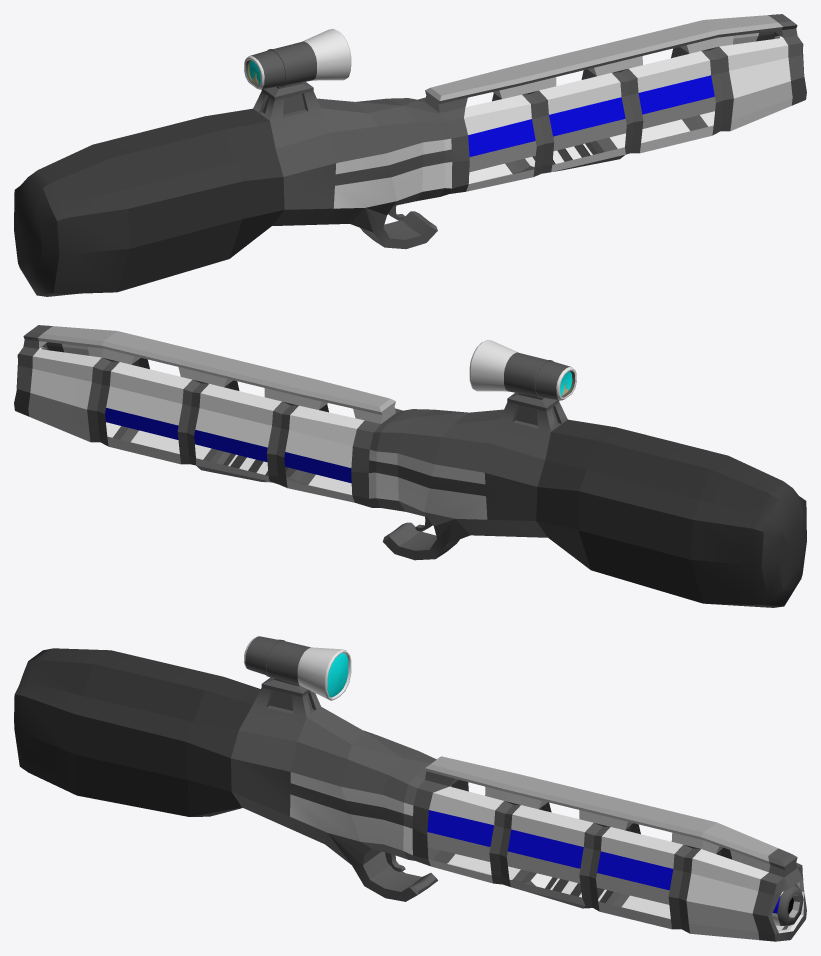
File: space_gun_2.fbx
The picture shows the model from 3 angles, top to bottom: view 1: azimuth 30°, elevation 25°; view 2: azimuth 150°, elevation 25°; view 3: azimuth 330°, elevation 25°; orthographic projection.
Visible parts, largest first — view 1: pCylinder1, pCylinder2; view 2: pCylinder1, pCylinder2; view 3: pCylinder1, pCylinder2.
Part boxes in pixels (left/top/right/bottom): pCylinder1: left=14, top=14, right=806, bottom=296; pCylinder2: left=468, top=75, right=715, bottom=172; pCylinder1: left=14, top=325, right=806, bottom=607; pCylinder2: left=105, top=386, right=352, bottom=483; pCylinder1: left=14, top=636, right=806, bottom=941; pCylinder2: left=427, top=810, right=803, bottom=925.
Bounding box in the file's own units: 21.89 × 6.11 × 2.79.
